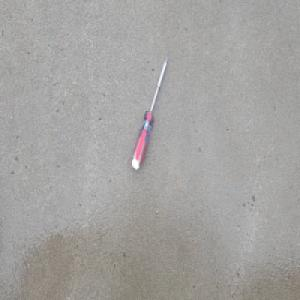Screwdriver: (130, 54, 169, 172)
